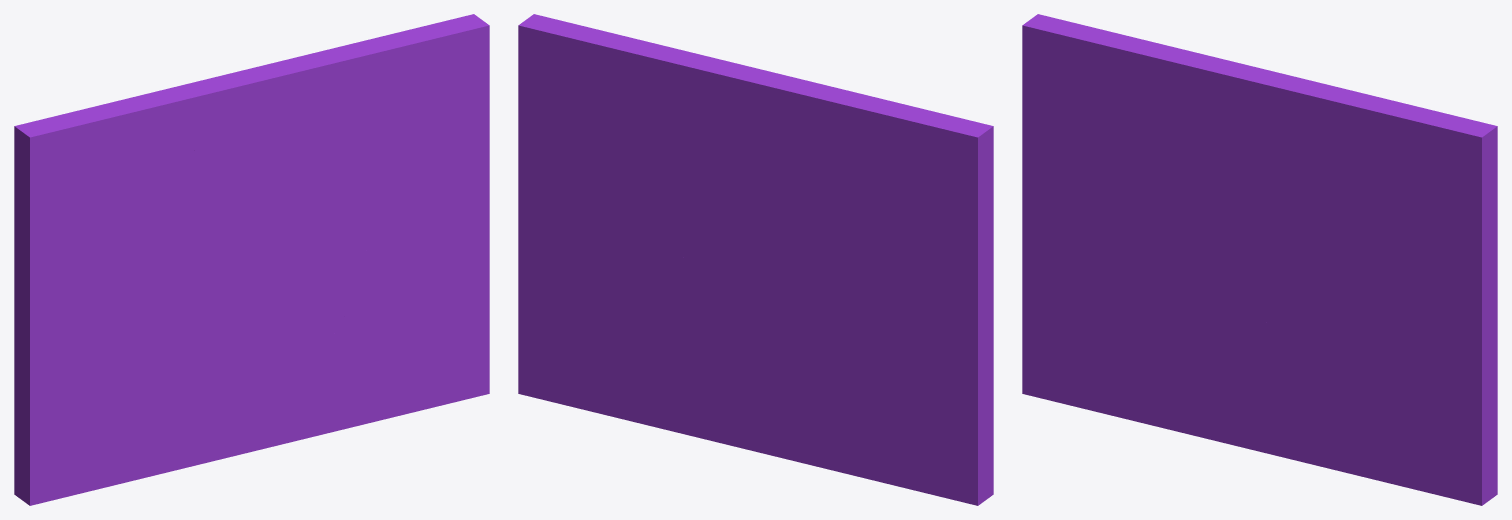
File: Barrier_165_chunks.fbx
3 renders of one model, left to right at view 1: azimuth 30°, elevation 25°; view 2: azimuth 150°, elevation 25°; view 3: azimuth 330°, elevation 25°, orthographic.
Visible parts, largest first — view 1: Barrier_165_0, Barrier_165_2, Barrier_165_4, Barrier_165_3, Barrier_165_6, Barrier_165_1, Barrier_165_5; view 2: Barrier_165_0, Barrier_165_2, Barrier_165_3, Barrier_165_4, Barrier_165_6; view 3: Barrier_165_2, Barrier_165_0, Barrier_165_4, Barrier_165_3, Barrier_165_6, Barrier_165_1, Barrier_165_5.
Part boxes in pixels (<box>): Barrier_165_0: <box>14,91,210,505</box>; Barrier_165_2: <box>159,14,489,262</box>; Barrier_165_4: <box>280,277,489,444</box>; Barrier_165_3: <box>121,292,311,483</box>; Barrier_165_6: <box>311,234,489,321</box>; Barrier_165_1: <box>178,128,274,336</box>; Barrier_165_5: <box>250,258,347,353</box>; Barrier_165_0: <box>743,93,993,505</box>; Barrier_165_2: <box>518,14,857,265</box>; Barrier_165_3: <box>683,265,872,480</box>; Barrier_165_4: <box>518,288,718,442</box>; Barrier_165_6: <box>518,235,741,340</box>; Barrier_165_2: <box>1157,49,1497,345</box>; Barrier_165_0: <box>1022,14,1202,415</box>; Barrier_165_4: <box>1272,365,1497,505</box>; Barrier_165_3: <box>1114,287,1304,454</box>; Barrier_165_6: <box>1303,283,1497,389</box>; Barrier_165_1: <box>1170,88,1266,312</box>; Barrier_165_5: <box>1242,270,1339,378</box>.
Size of the model in its own units: 376 by 288 by 22.1.
